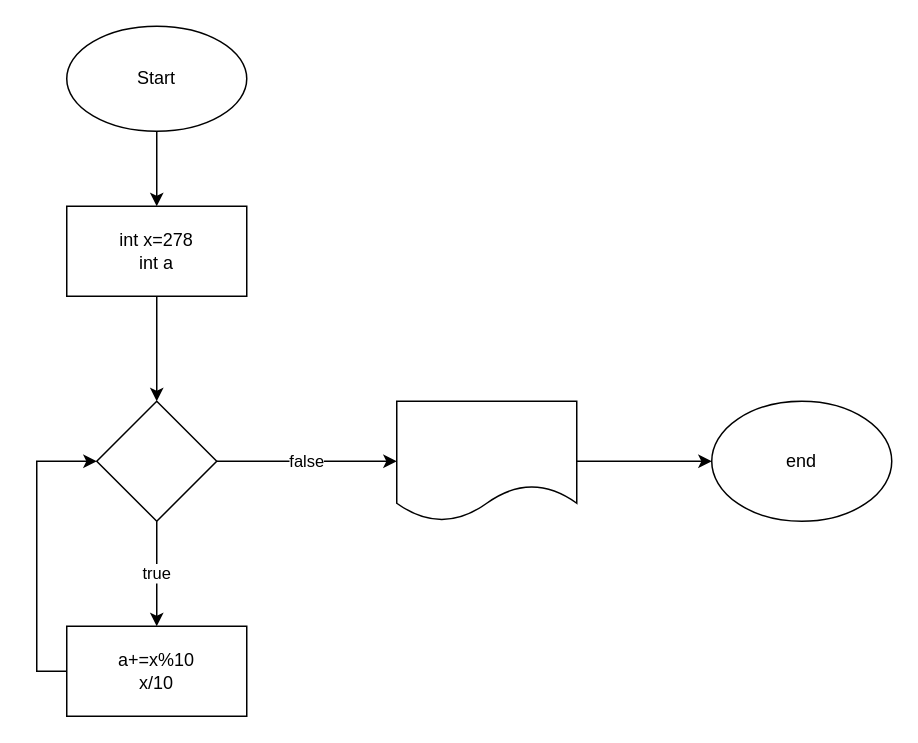
The diagram is 918 pixels wide and 743 high, and some of its shapes have lost their labels. The centre of each missing label's shape, as x and y in pixels:
Ededin reqemlerinin cemi: the point at 486,460
while(x !=0 ): the point at 156,460
